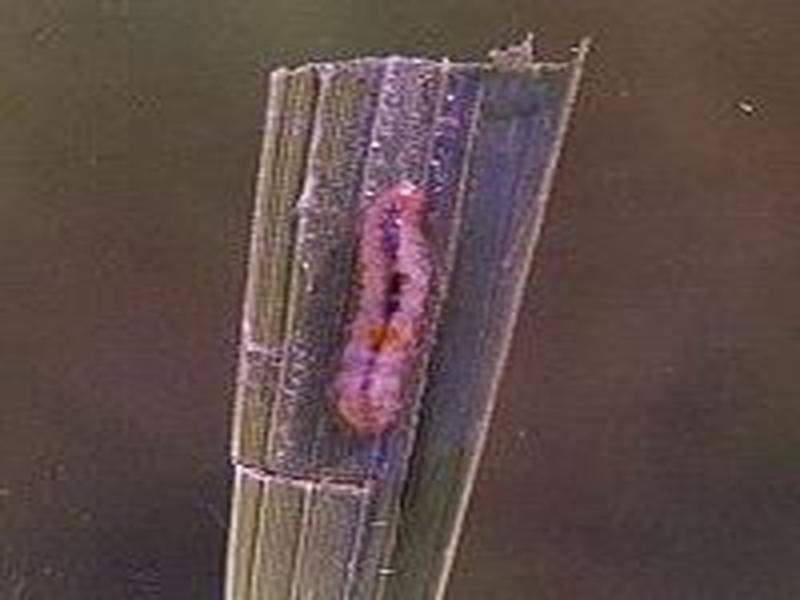Rice_case_worm: (308, 162, 437, 474)
